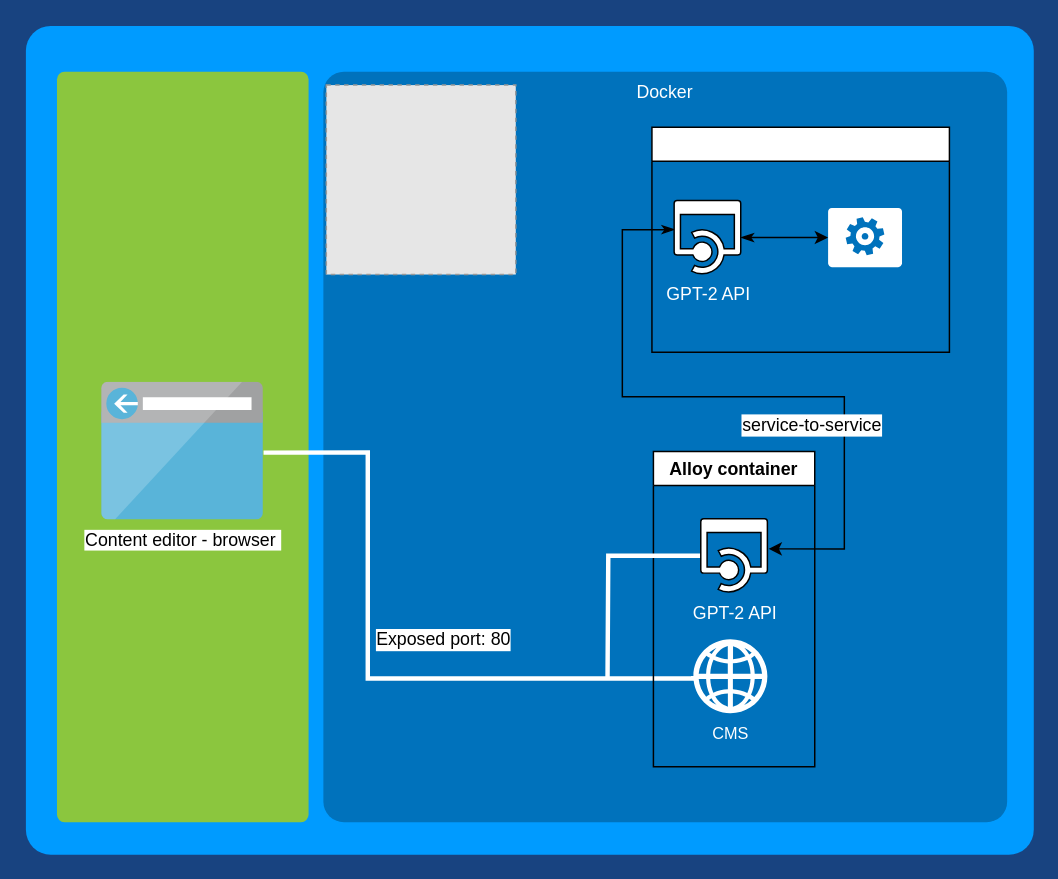
Some shapes in this 1058 by 879 pixel diagram are drawn without their labels. Grey dashed boxes stand in for pictures. Each missing label, with the box of its shape:
Generate text using language model: (827, 207, 901, 266)
GPT-2 container: (650, 126, 949, 352)
Host: (56, 71, 308, 821)
